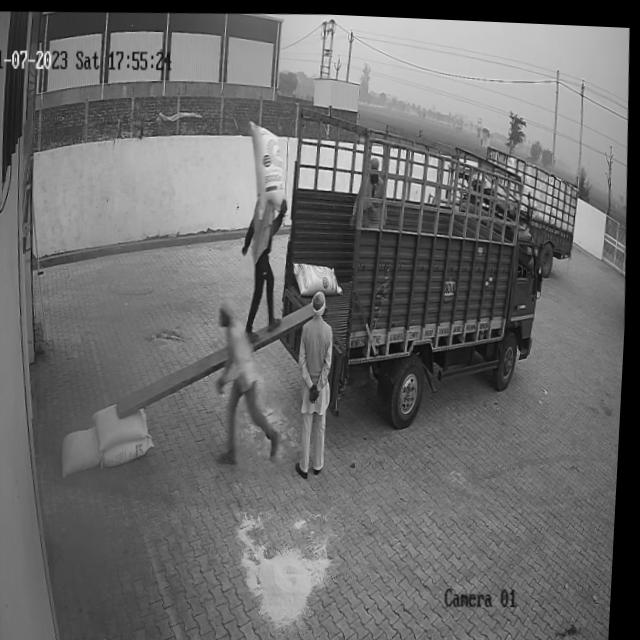sack: (246, 116, 289, 217), (95, 401, 153, 448), (63, 421, 106, 476), (293, 256, 346, 295), (105, 433, 158, 467)
